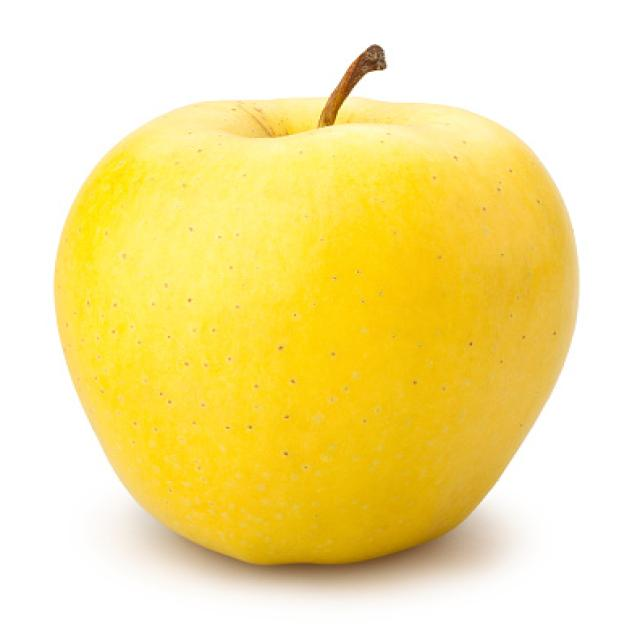Apel: (53, 98, 585, 578)
